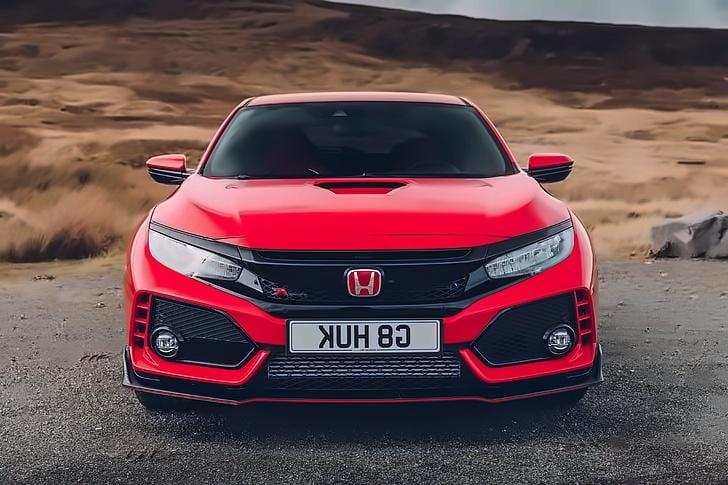Car hood: (150, 166, 573, 259)
Front bumper: (103, 277, 610, 420)
Headlight - -L-: (473, 220, 592, 291)
Headlight - -R-: (143, 214, 253, 290)
Side mirror - -L-: (510, 142, 582, 191)
Side mirror - -R-: (137, 146, 196, 200)
